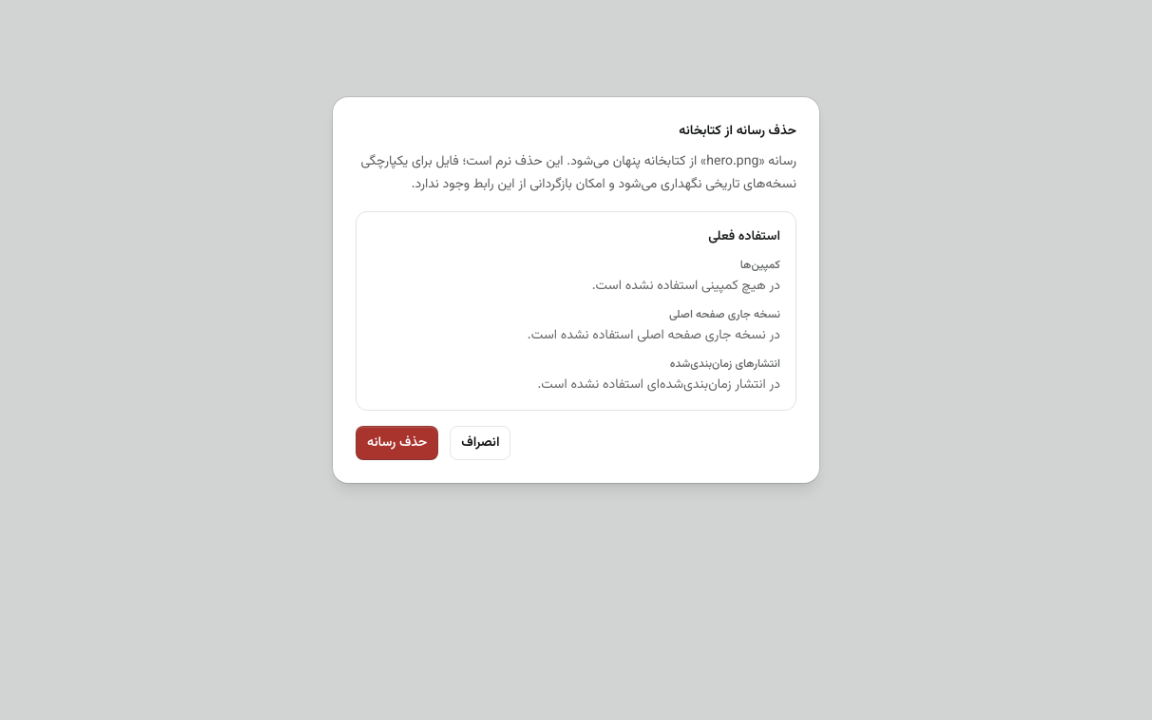
Test: MerchMediaDeleteDialog (SS-274) › refreshes usage and reports the conflict after a server 409
Expected: the text "در هیچ کمپینی استفاده نشده است." is shown, [592,275,780,296]
Click the button "حذف رسانه".
click(397, 442)  # box [356,425,439,460]
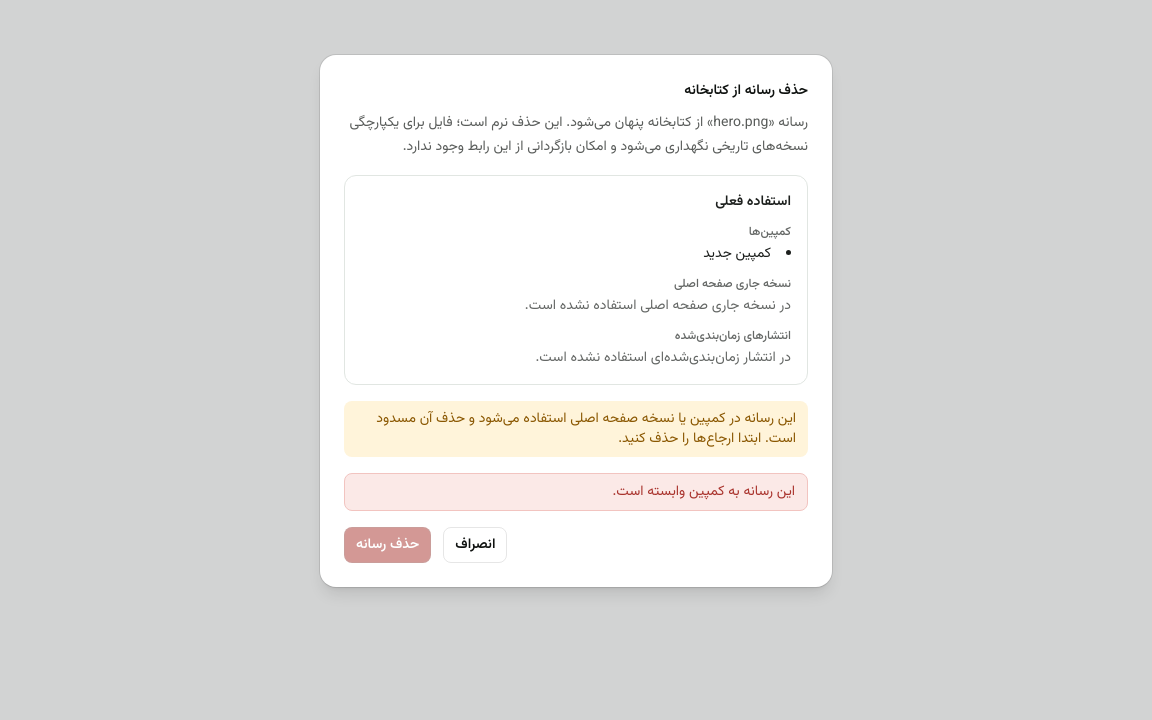
Now the text "این رسانه به کمپین وابسته است." is shown, box [344,473,808,511]
Now the list item "کمپین جدید" is shown, box [703,243,771,265]
Now the button "حذف رسانه" is disabled, box [344,527,431,563]
